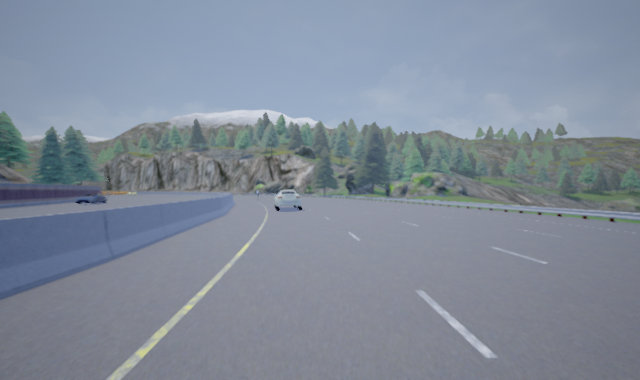vehicle: (272, 189, 303, 211), (75, 192, 106, 205)
